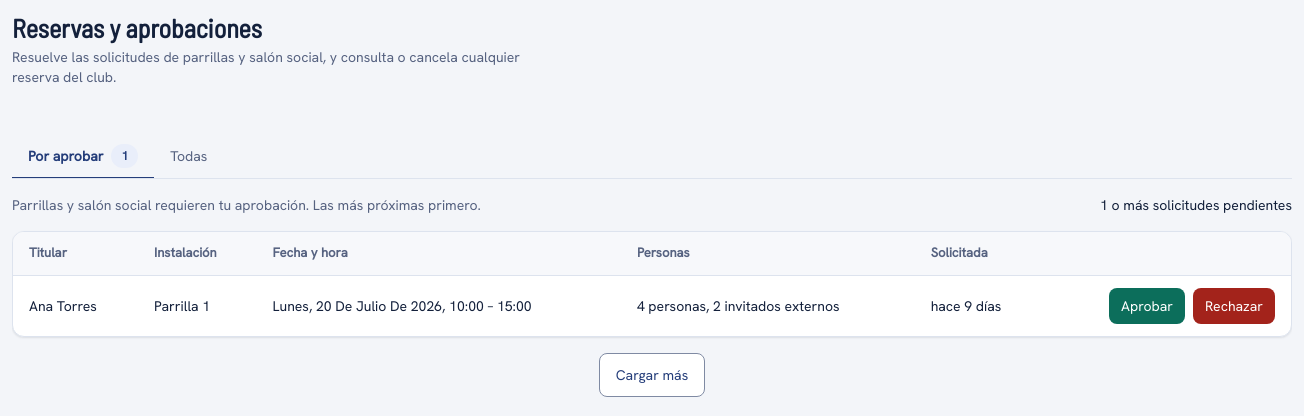
ReservationsAdminPage › por aprobar › indica "o más" cuando hay otra página y la carga con el cursor
The image size is (1304, 416).
Expected: the text "1 o más solicitudes pendientes" is shown, x1=1100 y1=195 x2=1292 y2=215
Click the button "Cargar más": [652, 375] box x1=599 y1=353 x2=705 y2=397
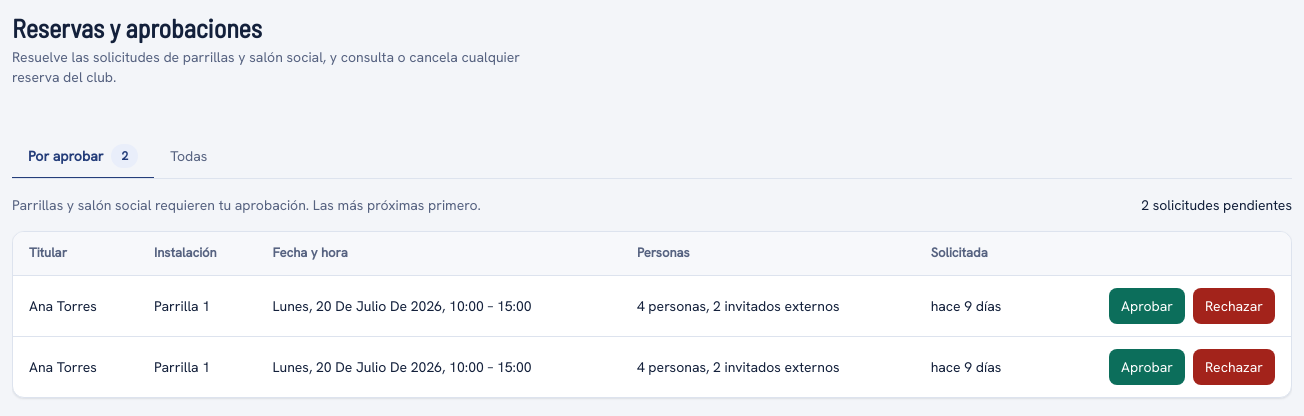
Result: the text "2 solicitudes pendientes" is shown at x1=1141 y1=195 x2=1292 y2=215
